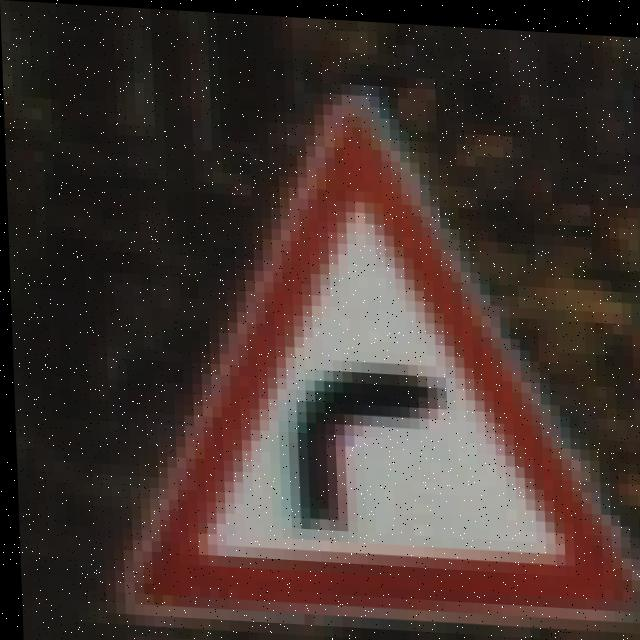right_turn: (105, 107, 640, 640)
